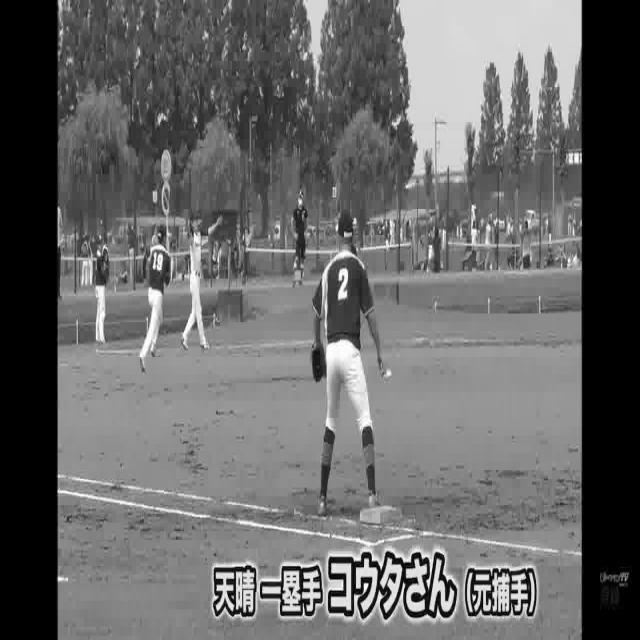base: (358, 501, 405, 530)
baseball_glove: (312, 334, 328, 388)
shoe: (364, 484, 384, 506), (315, 493, 330, 520), (138, 354, 148, 374), (150, 346, 156, 358)
